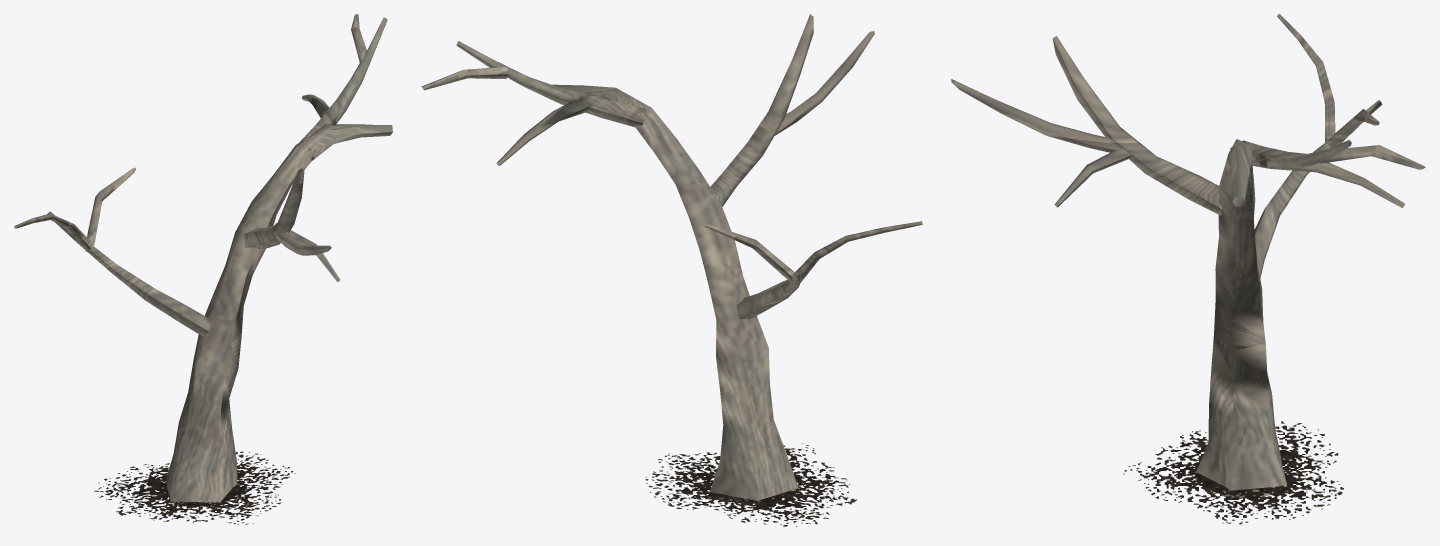
The model's file is sapling_dead_02.glb.
The picture shows the model from 3 angles, left to right: view 1: azimuth 30°, elevation 25°; view 2: azimuth 150°, elevation 25°; view 3: azimuth 270°, elevation 25°; orthographic projection. The views are drawn at different scales.
Parts seen in each view (by area): view 1: sapling_dead_02; view 2: sapling_dead_02; view 3: sapling_dead_02.
Boxes of the visible parts, x1,y1,x2,y2 form: sapling_dead_02: (14,14,392,524); sapling_dead_02: (421,14,922,526); sapling_dead_02: (951,14,1425,524).
Size of the model in its own units: 1.09 by 1.01 by 0.91.
Materials: 2 (2 with a texture image).
